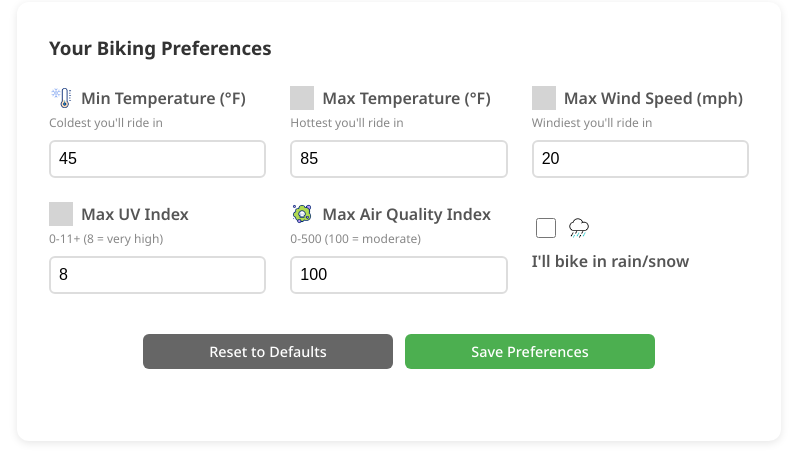
BikePreferencesForm › Preference Storage › shows "✓ Saved" text when preferences are saved
This screenshot has width=799, height=461.
Click the button "Save Preferences" at [530, 352], box 405,334 -> 655,369
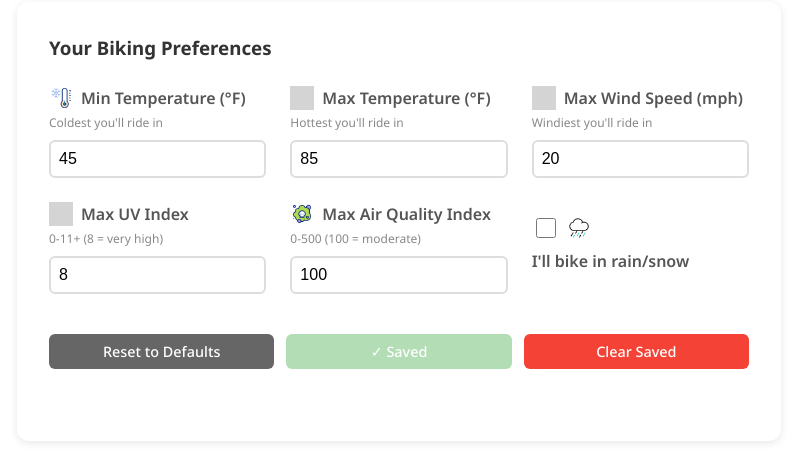
Expected: the button "✓ Saved" is shown, 286,334 -> 512,369
